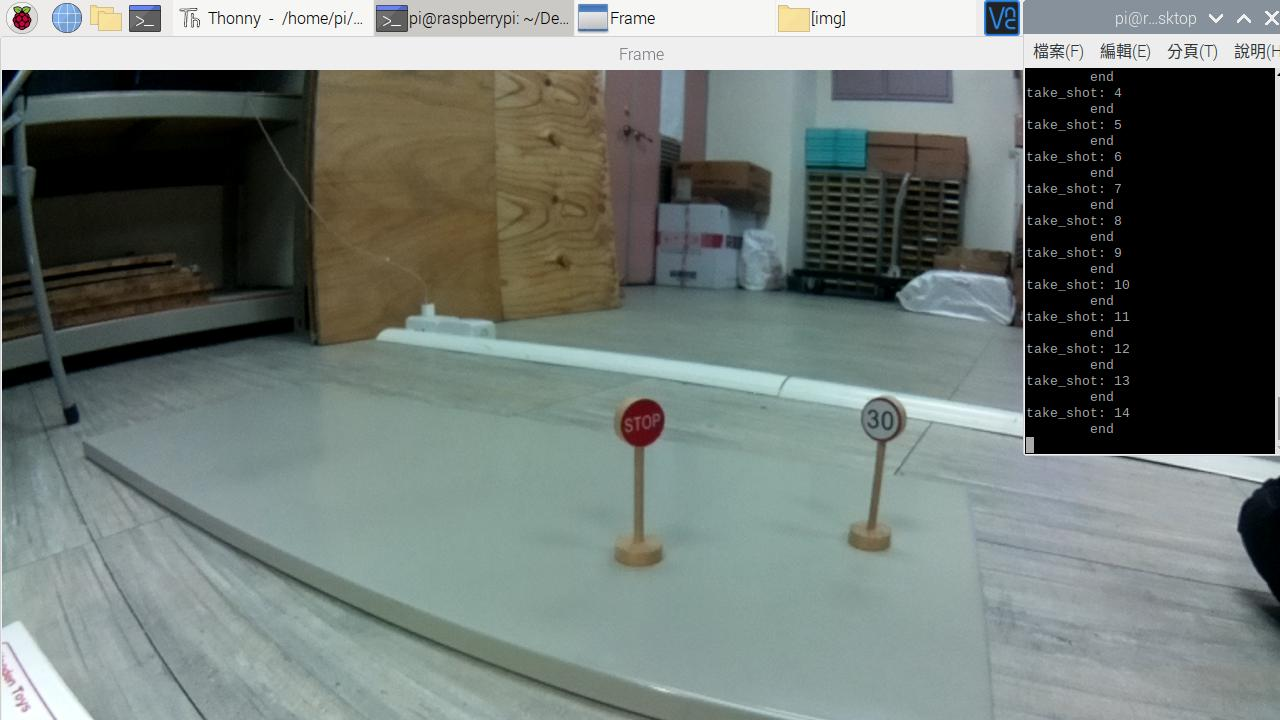Speed30: (858, 395, 910, 438)
Stop: (614, 398, 668, 446)
